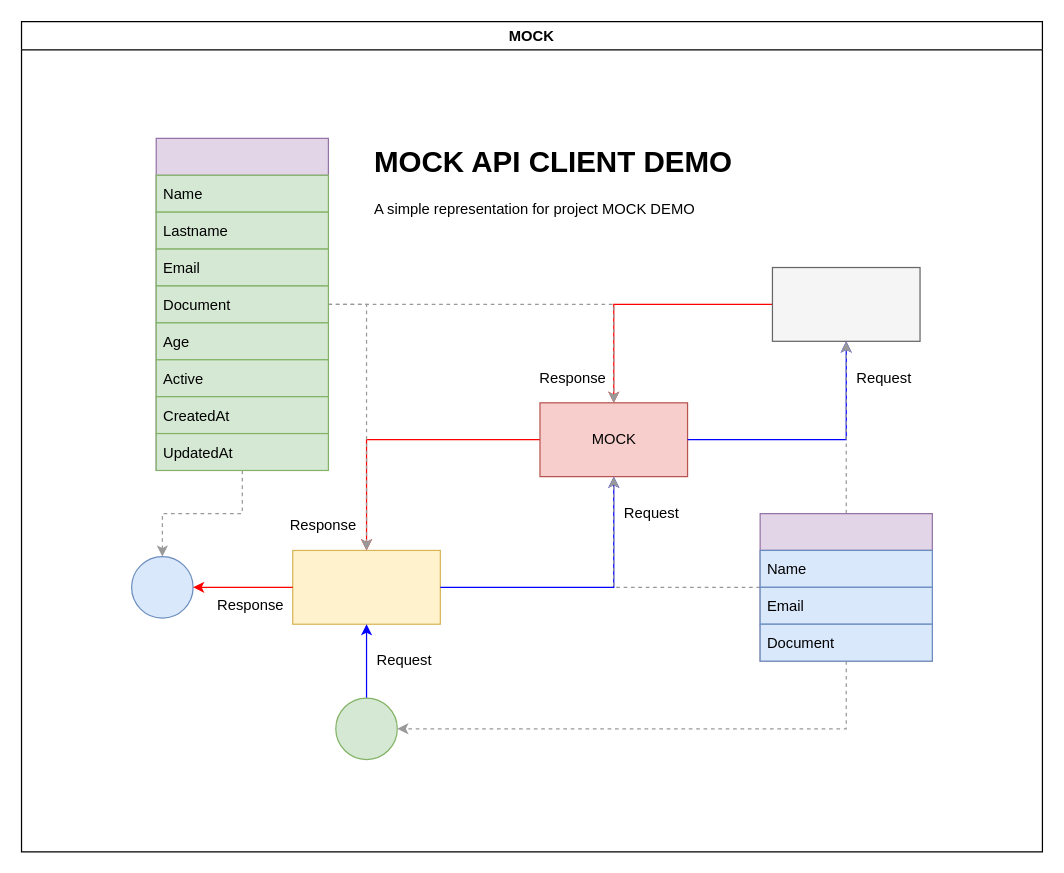
Image size: 1064x873. Some labels were removed from this diagram. The shapes that lost their labels are listed below. From the top down, each one's box as (x1, y1, x2, y2) in pixels, then its label:
(155, 137, 328, 470): DTO Response
(771, 266, 920, 341): PROVIDER
(130, 555, 193, 618): END
(292, 549, 440, 624): APP
(759, 512, 932, 661): DTO Request
(335, 697, 397, 760): START
